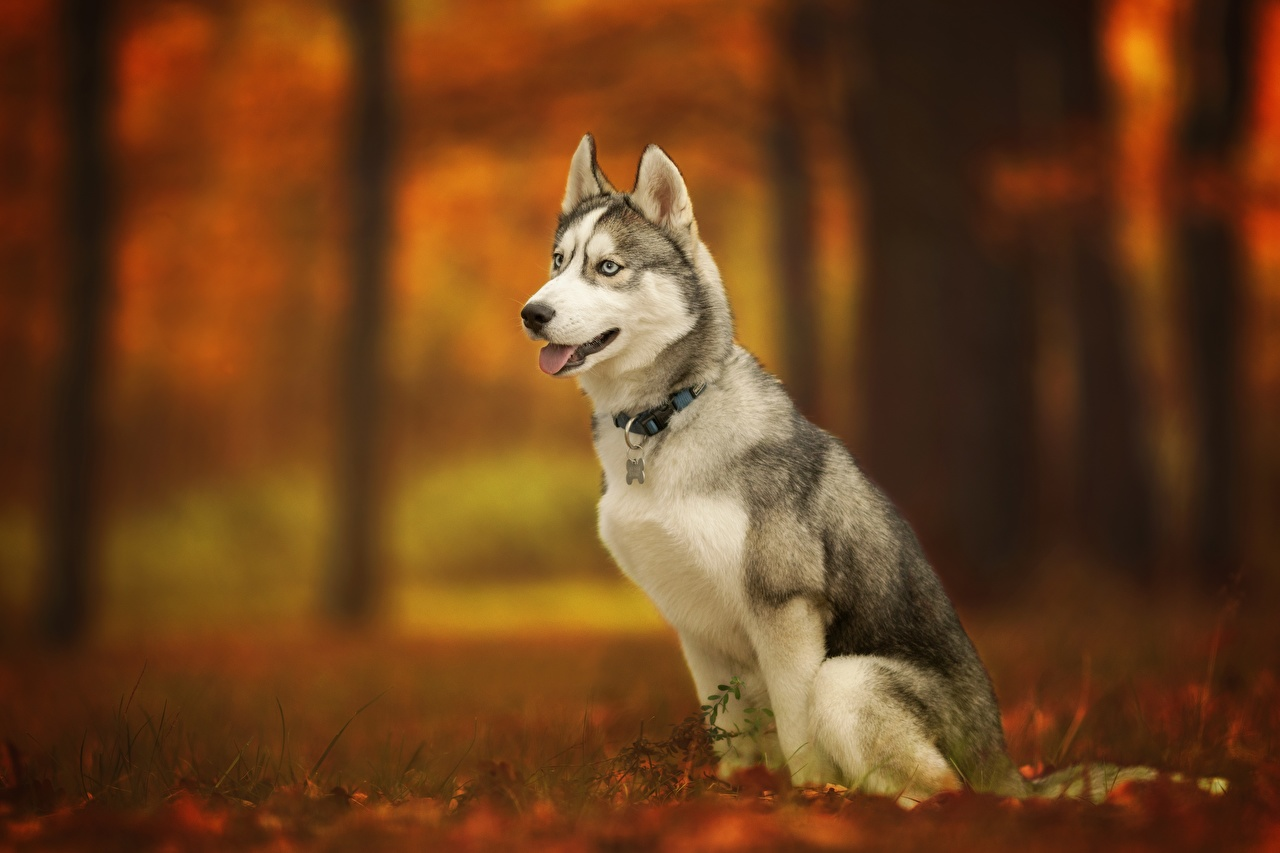husky: (496, 109, 909, 786)
